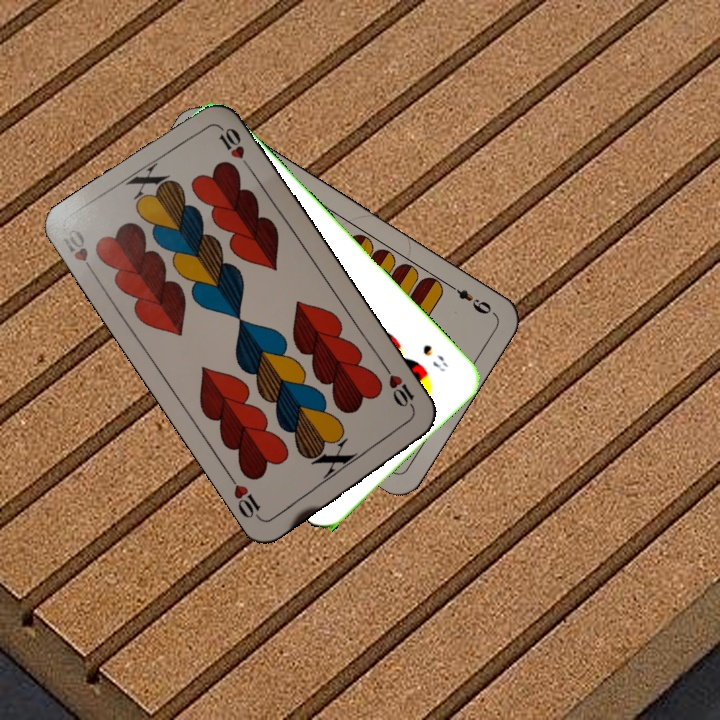E9: (444, 280, 497, 317)
H10: (56, 225, 100, 280), (381, 363, 419, 416)
S8: (418, 340, 451, 375)
